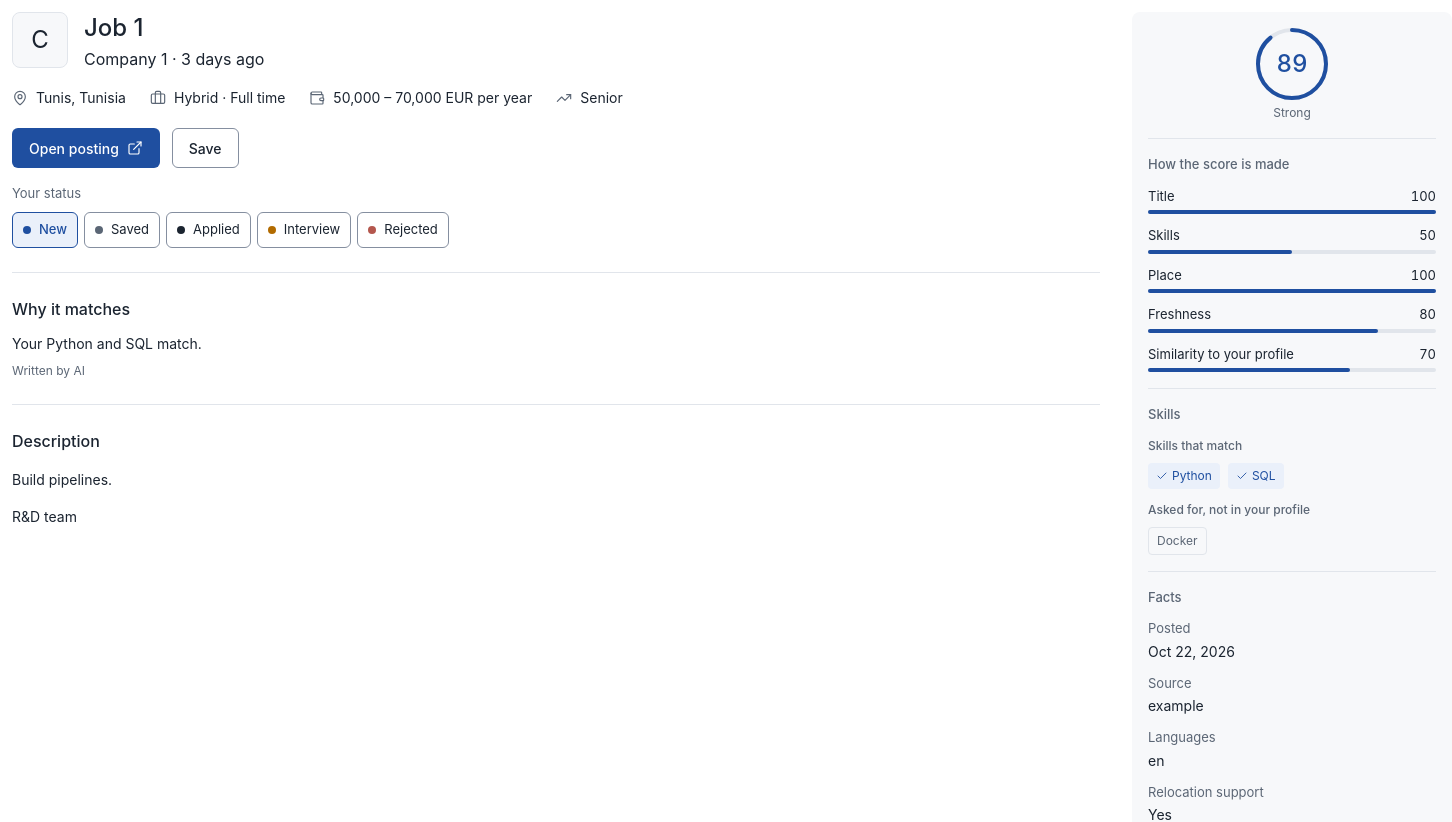
job detail › puts the status back and says so when the API refuses
Expected: the heading "Job 1" is shown, [84, 13, 144, 42]
What coordinates should you click on to do the following:
click the button "Rejected"
I would click on:
 (403, 230)
Its box is [357, 212, 449, 248].
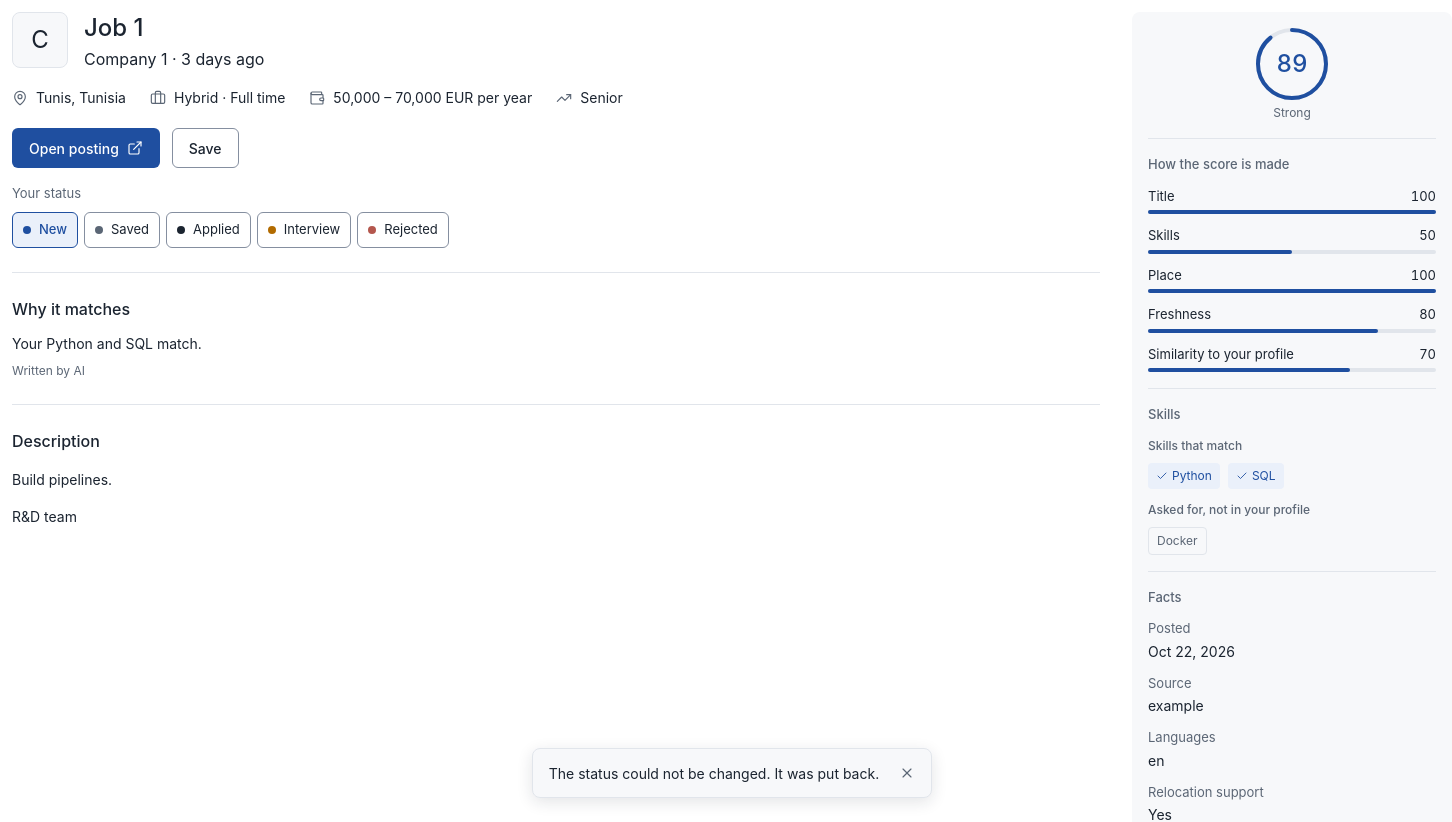
Result: the text "The status could not be changed. It was put back." is shown at [549, 762, 879, 784]
